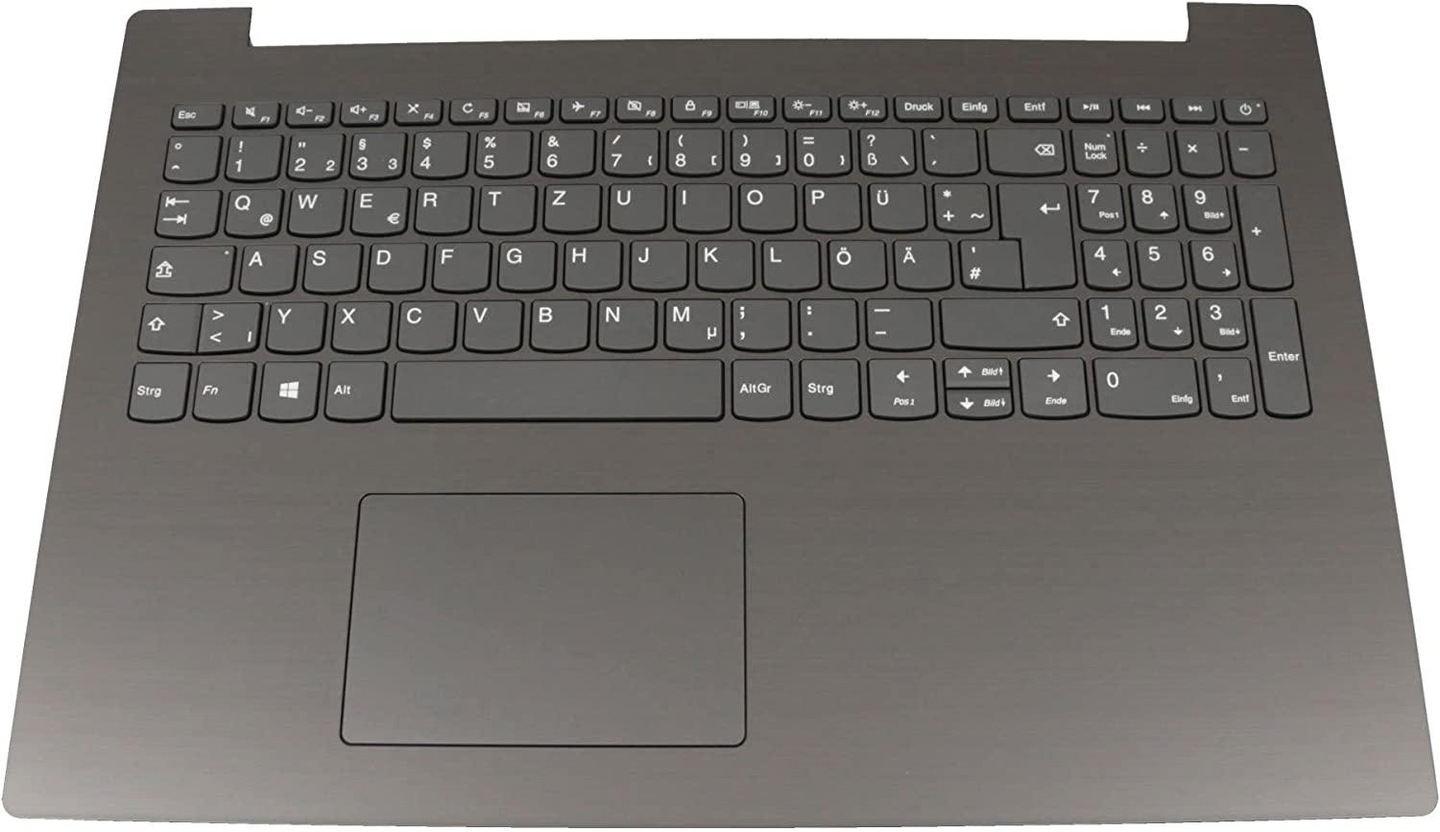0: (789, 123, 850, 174)
1: (223, 131, 279, 179)
2: (283, 128, 342, 178)
3: (346, 128, 405, 178)
4: (409, 127, 467, 177)
5: (471, 127, 530, 176)
6: (535, 126, 593, 174)
7: (599, 124, 658, 174)
8: (663, 124, 721, 174)
9: (726, 123, 786, 174)
a: (236, 241, 295, 292)
accent: (919, 124, 977, 174)
ae: (889, 235, 951, 289)
alt-left: (321, 356, 383, 419)
altgr-right: (727, 354, 790, 417)
b: (525, 295, 588, 350)
c: (394, 297, 455, 350)
caret: (160, 131, 218, 179)
comma: (728, 295, 789, 349)
d: (364, 239, 423, 291)
del: (984, 124, 1065, 173)
e: (348, 182, 407, 233)
enter: (996, 178, 1073, 288)
f: (429, 238, 489, 290)
g: (494, 237, 554, 289)
h: (560, 236, 620, 289)
hash: (956, 235, 1018, 287)
i: (671, 179, 730, 230)
j: (626, 235, 686, 289)
k: (692, 235, 753, 289)
keyboard: (113, 80, 1332, 439)
l: (758, 235, 818, 289)
less: (197, 297, 259, 350)
m: (660, 295, 723, 349)
minus: (860, 294, 931, 348)
n: (593, 295, 655, 350)
o: (734, 179, 794, 230)
oe: (824, 235, 884, 289)
p: (801, 179, 860, 230)
plus: (929, 178, 990, 229)
point: (794, 295, 857, 348)
q: (222, 184, 281, 235)
r: (412, 182, 471, 232)
s: (300, 239, 359, 291)
shift-left: (133, 298, 196, 350)
shift-lock: (143, 241, 232, 293)
shift-right: (937, 292, 1082, 346)
space: (388, 355, 723, 419)
ss: (854, 124, 914, 174)
strg-left: (123, 356, 188, 420)
strg-right: (795, 354, 859, 418)
t: (476, 180, 534, 231)
tab: (152, 185, 218, 236)
u: (605, 179, 664, 230)
ue: (865, 179, 925, 230)
v: (460, 296, 521, 350)
w: (285, 183, 343, 233)
x: (328, 297, 390, 351)
y: (264, 297, 324, 351)
z: (540, 179, 599, 230)
